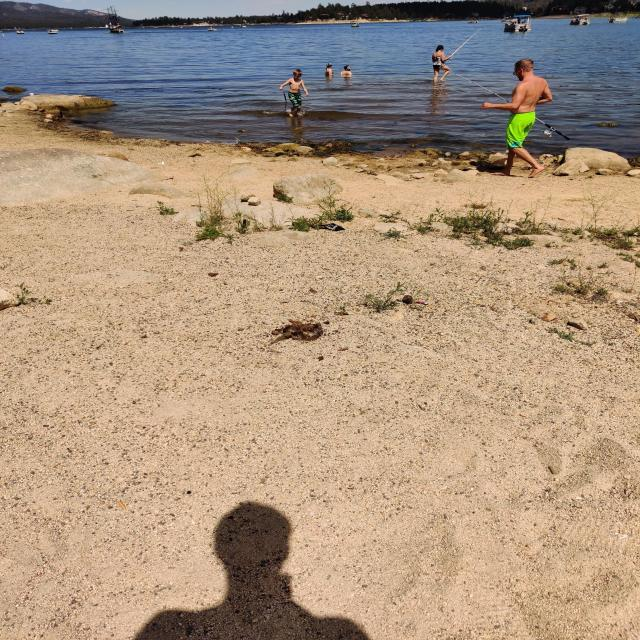litter: (416, 300, 431, 306), (557, 155, 563, 163), (9, 110, 15, 113), (1, 110, 6, 112)
